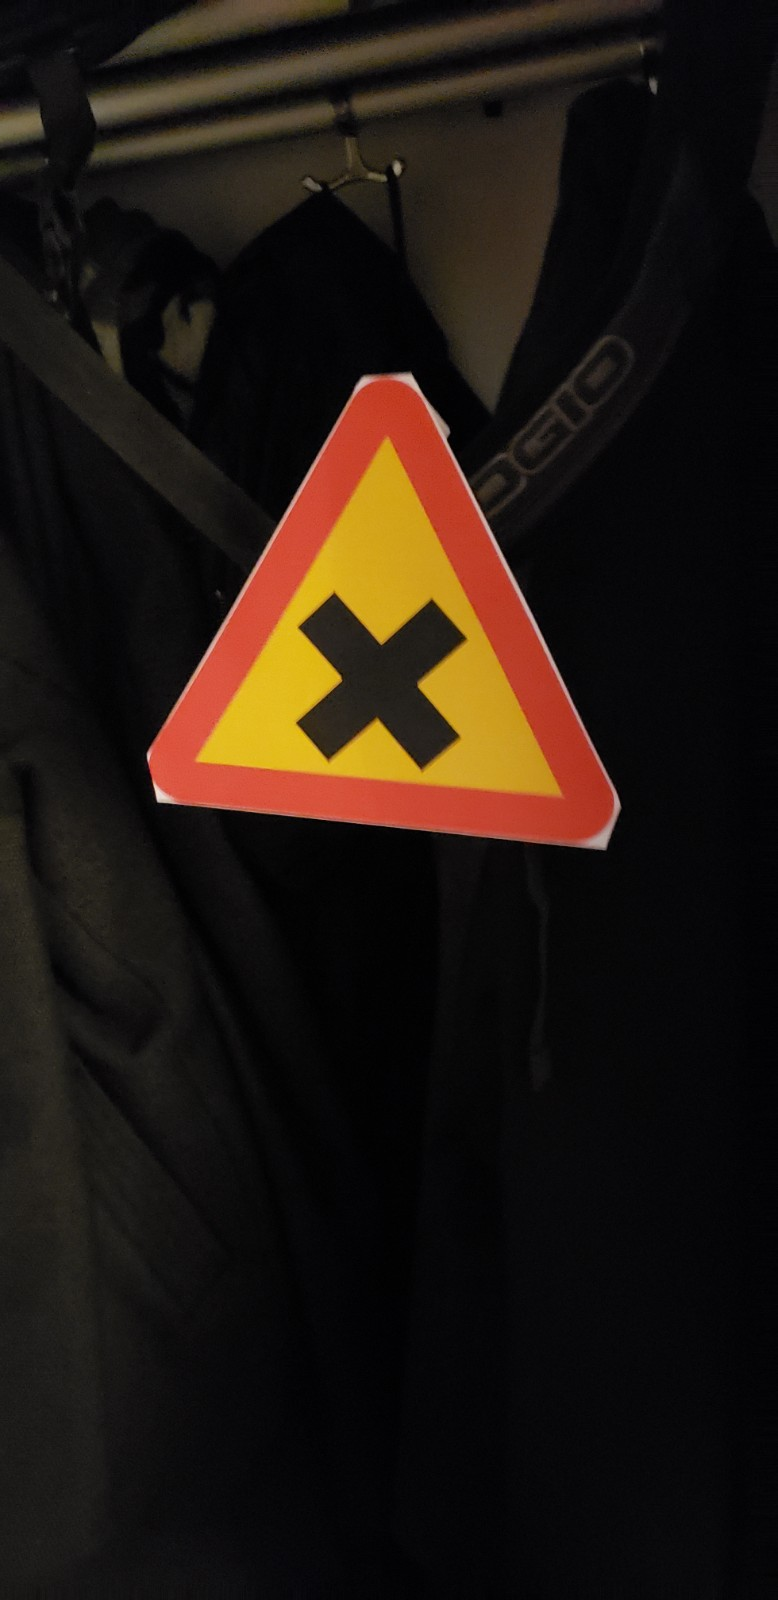junction: (83, 341, 644, 873)
